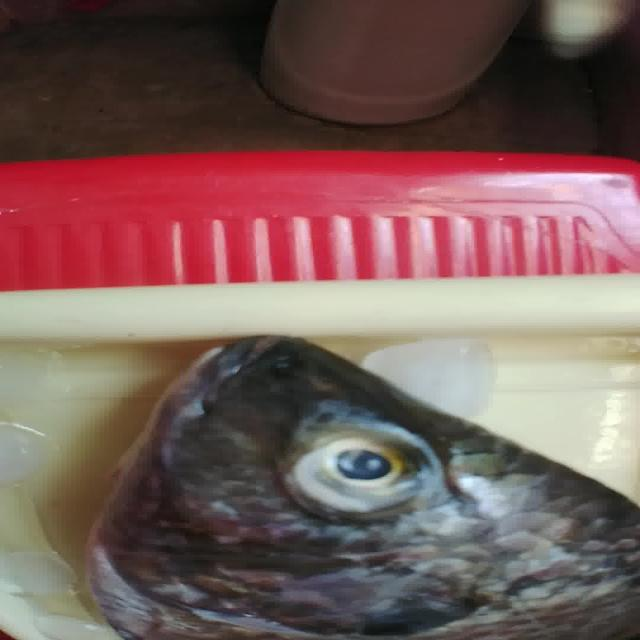Fresh: (267, 428, 454, 523)
